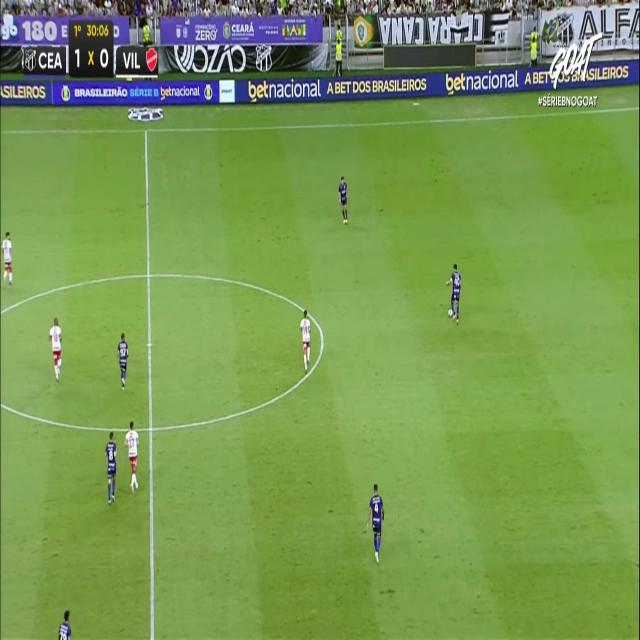ball: (446, 302, 457, 324)
player: (364, 482, 384, 564), (124, 420, 139, 492), (445, 262, 461, 324), (48, 316, 62, 382), (105, 430, 117, 504), (54, 598, 75, 640), (299, 308, 311, 372), (117, 332, 129, 389), (1, 231, 13, 285), (338, 175, 348, 224)
